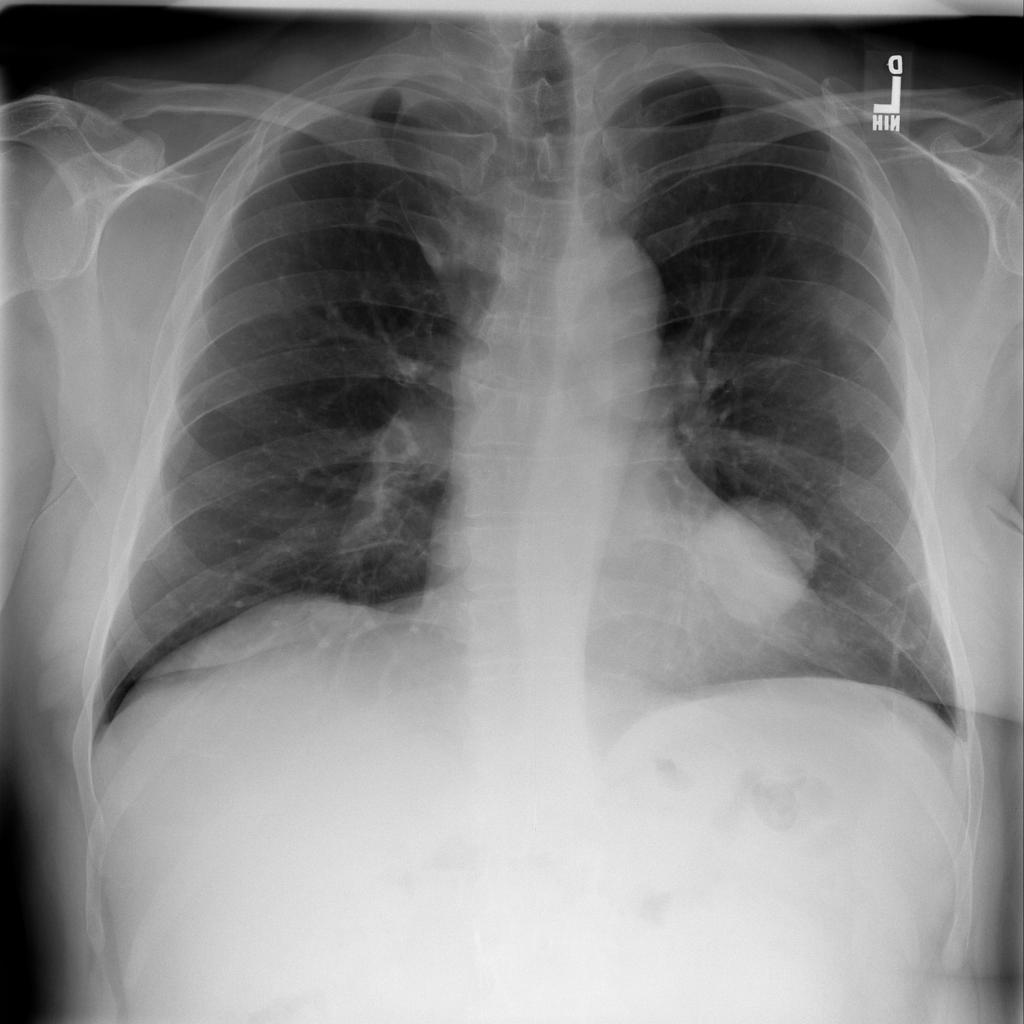nodule: (672, 483, 835, 636)
